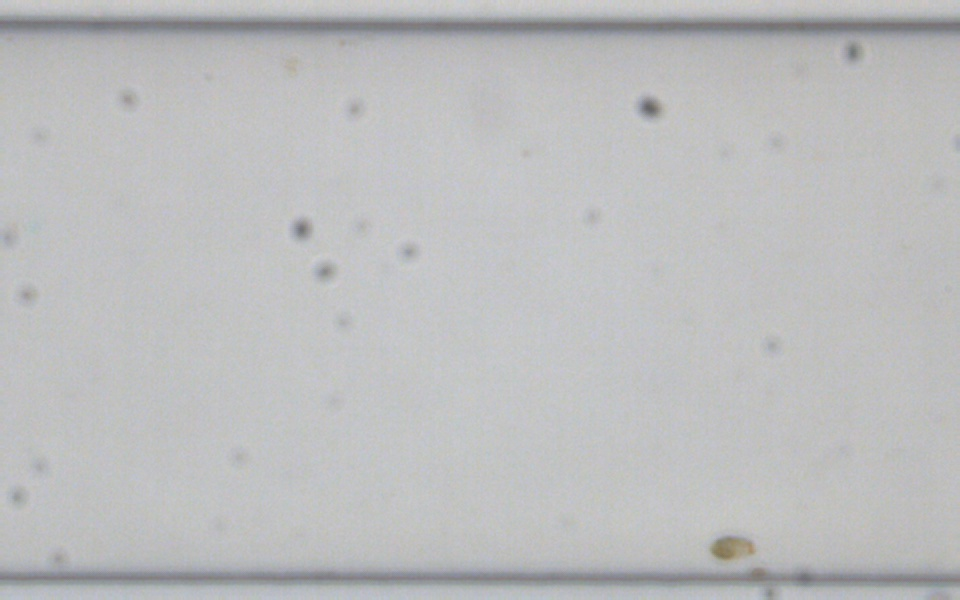Dunaliella salina: (707, 531, 759, 563)
